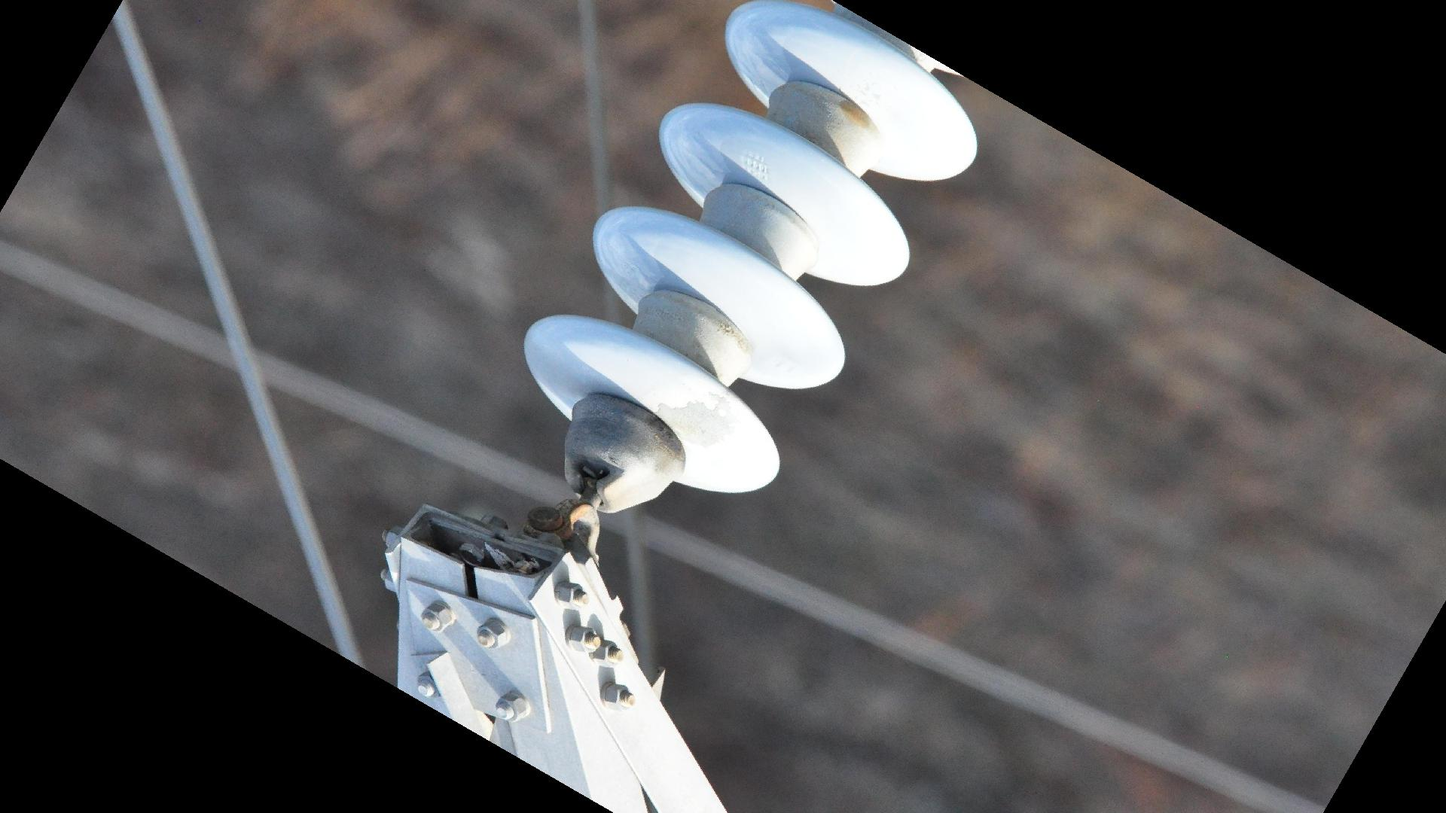insulator: (516, 1, 989, 505)
insulator_flashover: (653, 396, 740, 455)
